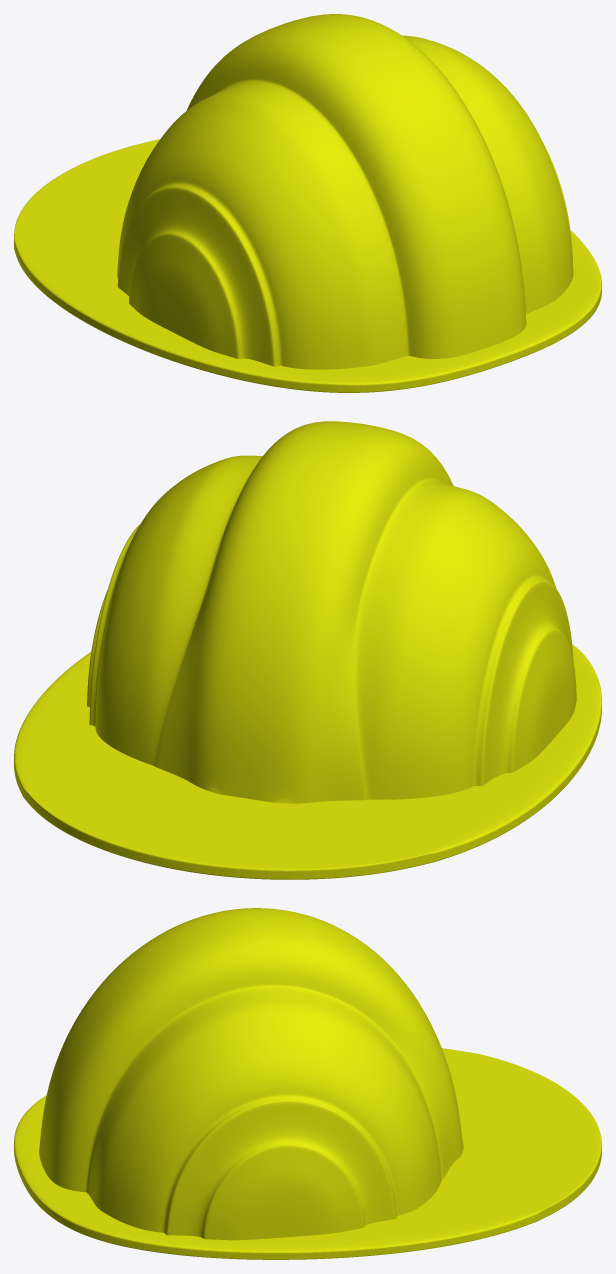
File: hardhatv2.fbx
3 renders of one model, top to bottom at view 1: azimuth 30°, elevation 25°; view 2: azimuth 150°, elevation 25°; view 3: azimuth 270°, elevation 25°, orthographic. The views are drawn at different scales.
Visible parts, largest first — view 1: Hat.001; view 2: Hat.001; view 3: Hat.001.
Part boxes in pixels (<box>): Hat.001: <box>14,14,601,392</box>; Hat.001: <box>14,421,601,879</box>; Hat.001: <box>14,908,601,1259</box>.
Size of the model in its own units: 288 by 153 by 341.
